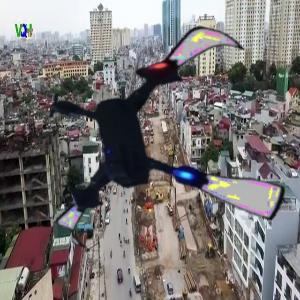drone: (32, 4, 299, 271)
